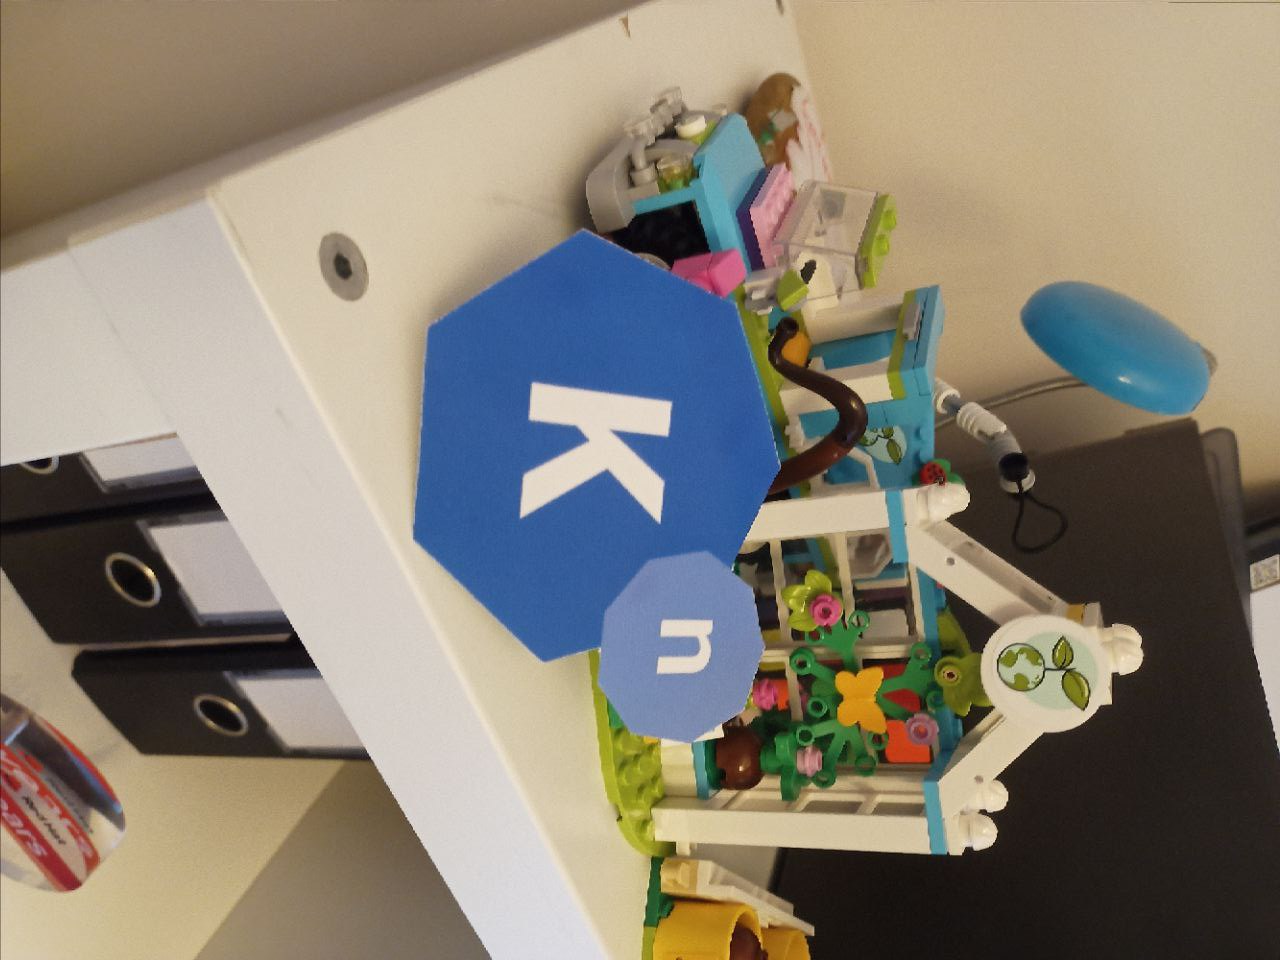knative: (416, 229, 784, 743)
